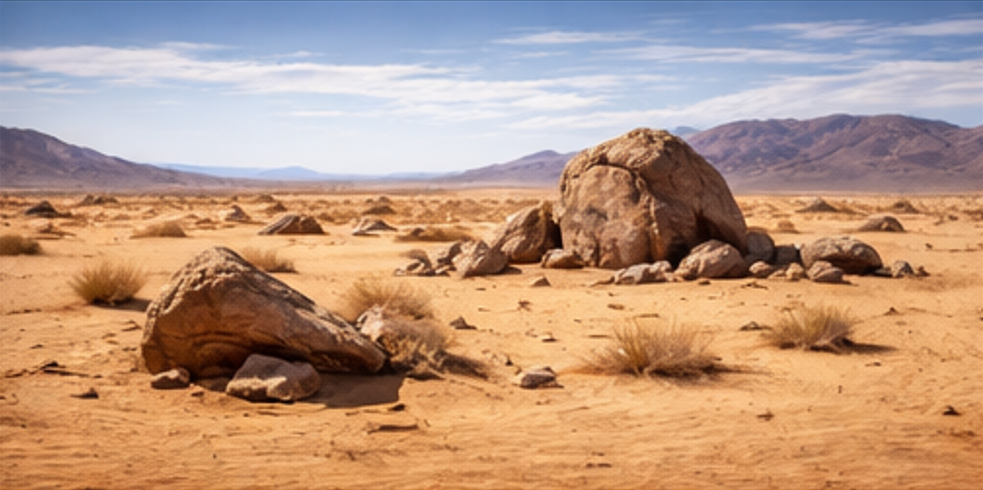rocks: (141, 246, 385, 377), (557, 129, 744, 268), (225, 354, 319, 401), (490, 200, 559, 261), (800, 236, 881, 272), (674, 240, 747, 279), (452, 240, 507, 277), (612, 260, 671, 283), (257, 213, 323, 233), (512, 366, 559, 388), (542, 248, 585, 268), (150, 367, 190, 388), (352, 216, 397, 234), (806, 260, 843, 281), (856, 215, 903, 231), (24, 199, 69, 215), (220, 204, 250, 220)
